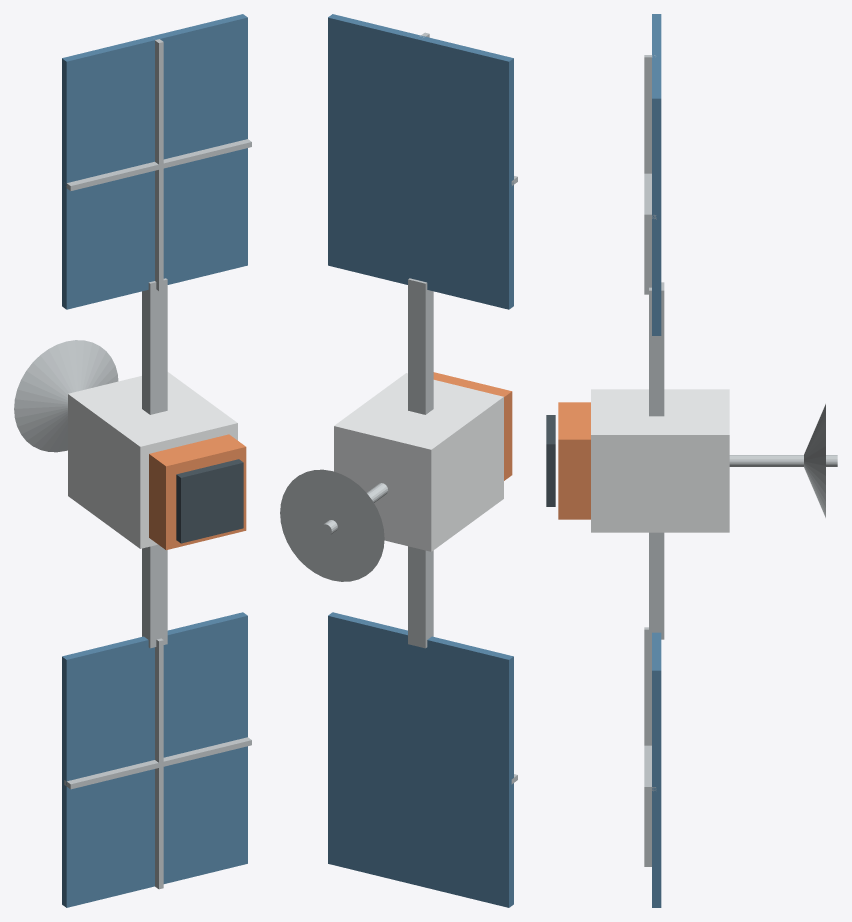
The model's file is amoh_polar_science_satellite_v18.glb.
3 views of the same model, side by side, from view 1: azimuth 30°, elevation 25°; view 2: azimuth 150°, elevation 25°; view 3: azimuth 270°, elevation 25° (orthographic). The views are drawn at different scales.
Parts seen in each view (by area): view 1: part_08, part_04, part_00, part_12, part_01, part_02, part_07, part_03, part_09, part_05, part_06, part_10; view 2: part_08, part_04, part_00, part_12, part_07, part_03, part_01; view 3: part_00, part_01, part_08, part_04, part_03, part_07, part_09, part_05, part_12, part_11, part_02.
Part boxes in pixels (<box>): part_08: <box>62,14,247,309</box>; part_04: <box>62,612,247,907</box>; part_00: <box>68,372,237,548</box>; part_12: <box>14,340,118,452</box>; part_01: <box>149,434,246,550</box>; part_02: <box>176,459,243,543</box>; part_07: <box>142,278,167,414</box>; part_03: <box>142,544,167,648</box>; part_09: <box>155,39,163,290</box>; part_05: <box>155,638,163,889</box>; part_06: <box>64,737,251,789</box>; part_10: <box>64,139,251,190</box>; part_08: <box>328,14,513,309</box>; part_04: <box>328,612,513,907</box>; part_00: <box>334,373,503,551</box>; part_12: <box>280,469,384,581</box>; part_07: <box>408,278,433,414</box>; part_03: <box>408,546,433,648</box>; part_01: <box>433,372,512,480</box>; part_00: <box>591,389,729,532</box>; part_01: <box>558,402,590,519</box>; part_08: <box>652,14,661,335</box>; part_04: <box>652,632,661,907</box>; part_03: <box>649,532,664,639</box>; part_07: <box>649,282,664,416</box>; part_09: <box>644,55,655,294</box>; part_05: <box>644,627,651,866</box>; part_12: <box>804,404,825,517</box>; part_11: <box>729,455,837,466</box>; part_02: <box>546,415,555,506</box>.
Bounding box in the file's own units: 2.6 × 11.6 × 3.78.
